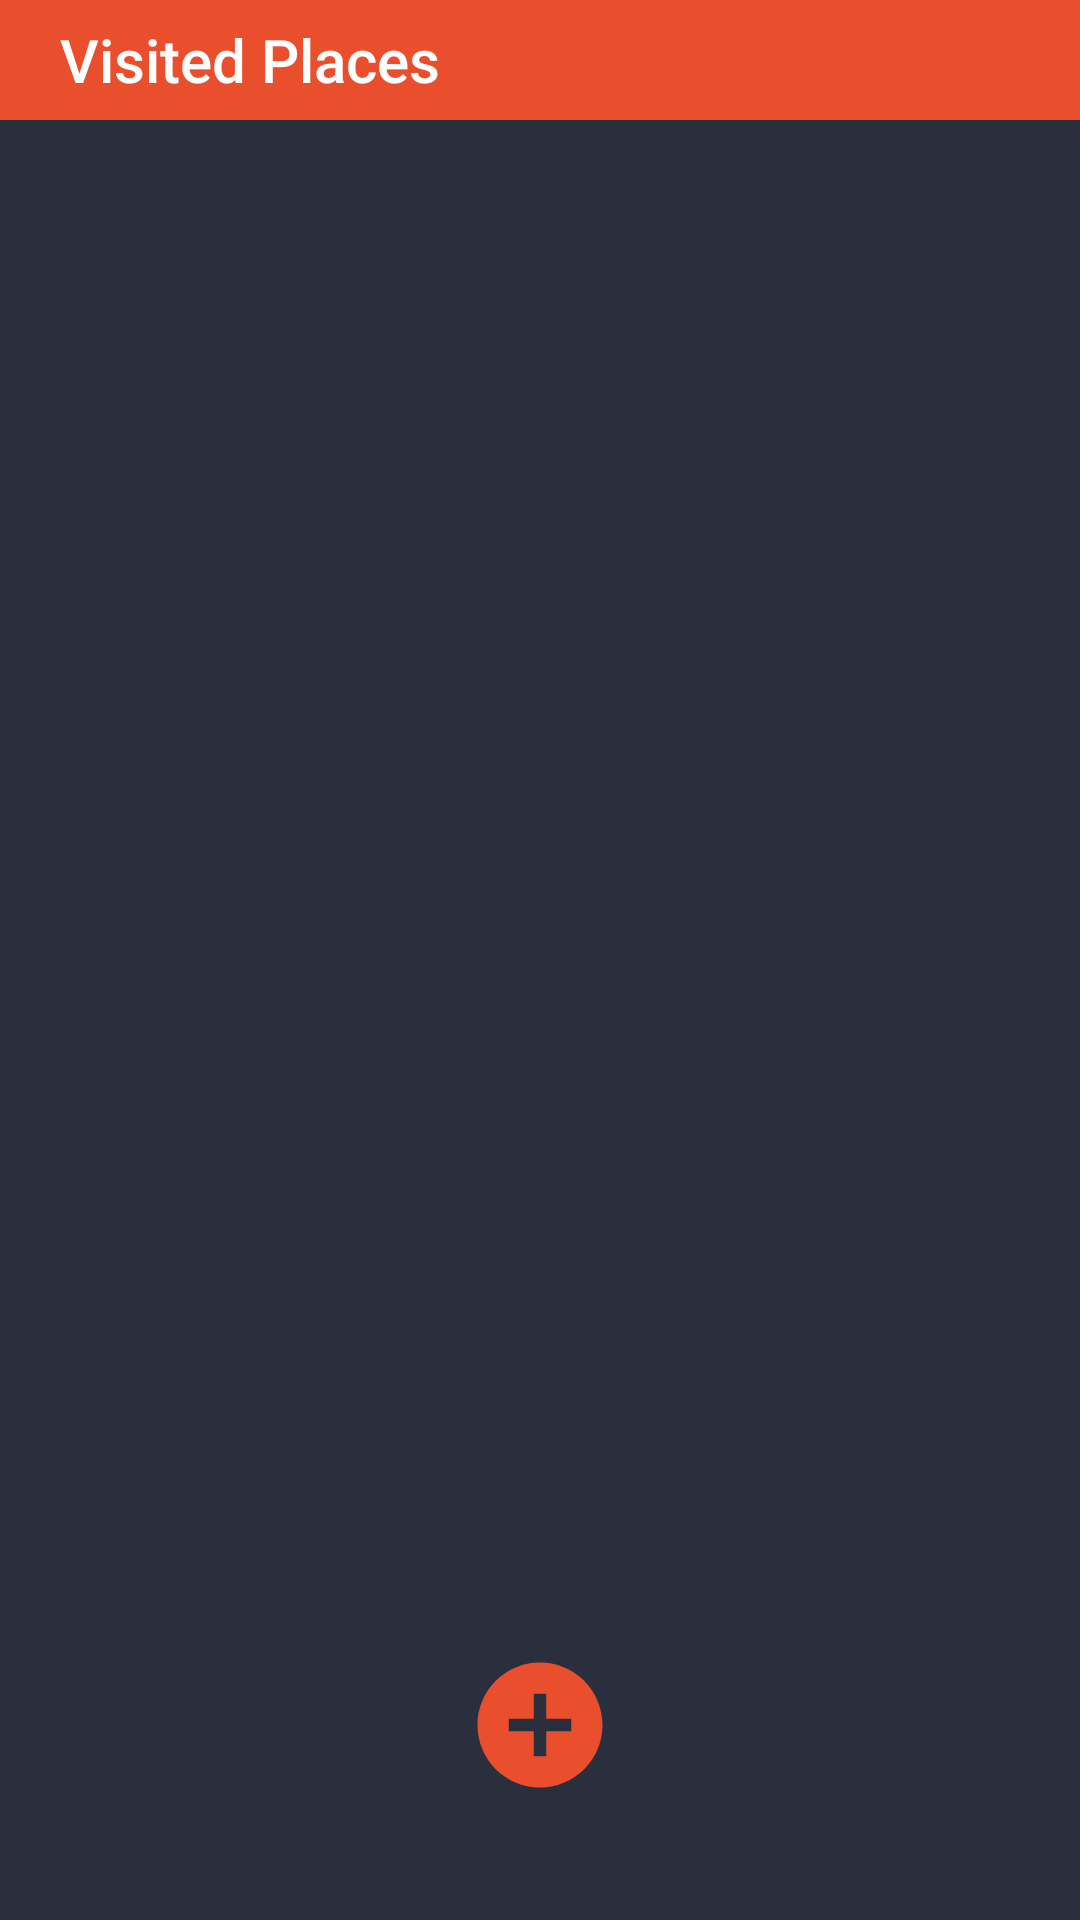

Icons on this 1080×1920 Android screen, each with the point to tap as point (x, y):
Adding new visited place: point (540, 1725)
